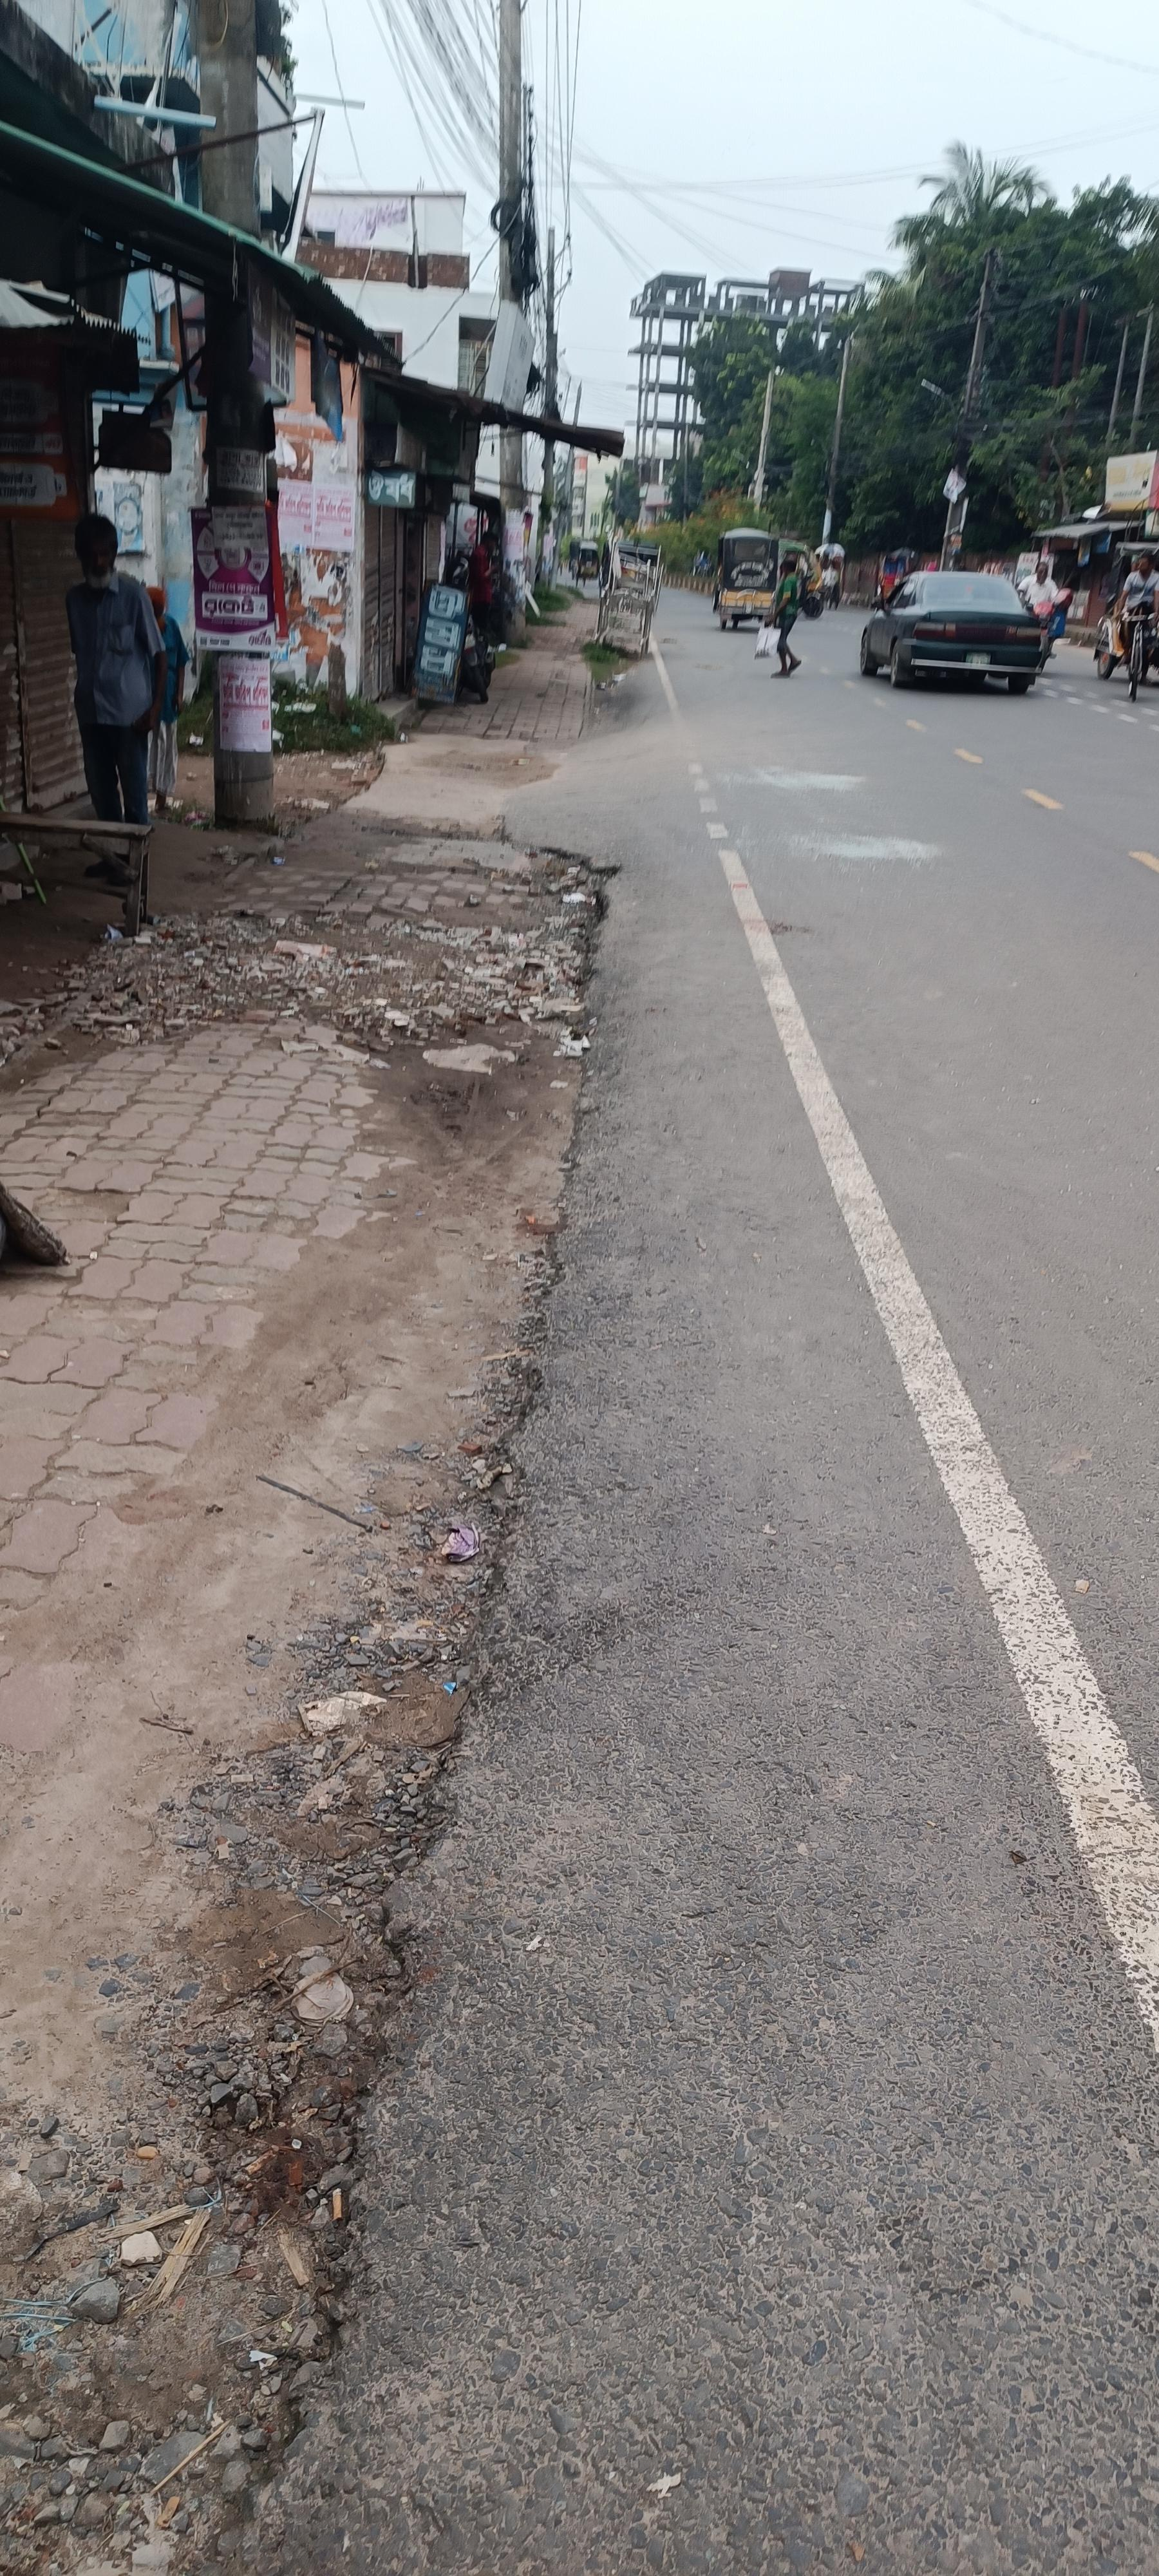Bollard: (148, 805, 637, 1165)
Broken-road: (857, 536, 1056, 772)
Garbage-bin: (64, 513, 169, 885), (143, 585, 189, 812), (1113, 552, 1159, 678), (768, 554, 804, 677)
Light-pole: (187, 59, 315, 805)
Pothole: (3, 575, 616, 2571)
